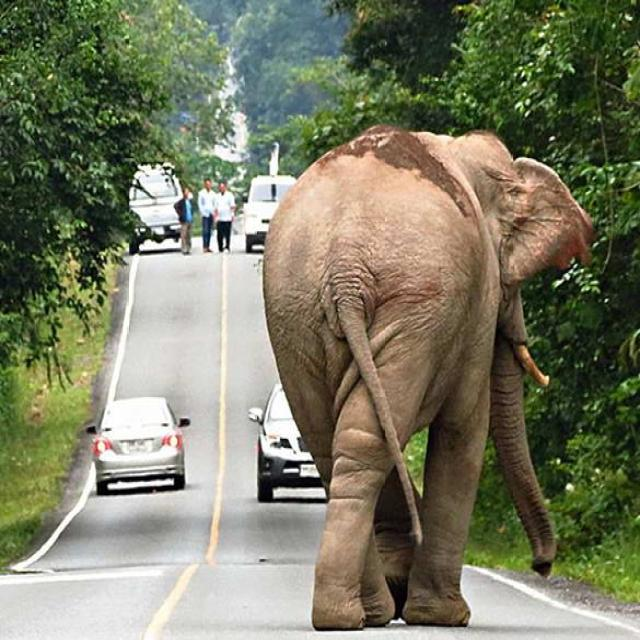Elephant: (252, 102, 604, 639)
